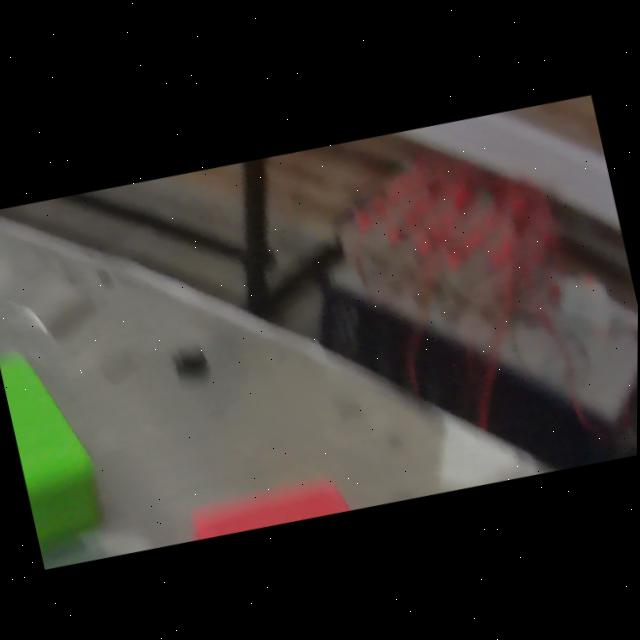greenBox: (0, 332, 121, 564)
redBox: (181, 459, 402, 546)
